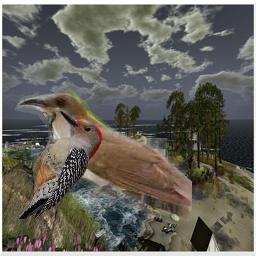Cuckoo: (15, 93, 192, 223)
Woodpecker: (19, 111, 102, 219)
